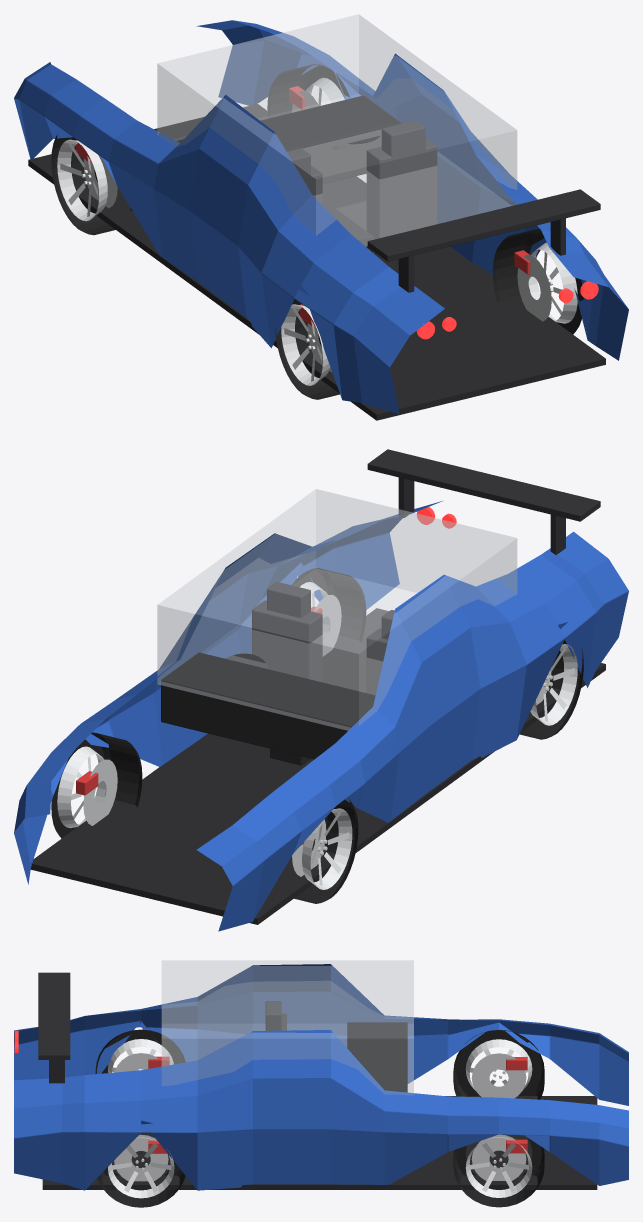
Rendered from Car_Nissan_Skyline_GTR_R34_2000s_Complete.glb.
3 views of the same model, one above another, from view 1: azimuth 30°, elevation 25°; view 2: azimuth 150°, elevation 25°; view 3: azimuth 270°, elevation 25° (orthographic). The views are drawn at different scales.
Visible parts, largest first — view 1: BODY_SkylineGTR_R34_MainShell, GLASS_SkylineGTR_R34, CHASSIS_BellyPan, INTERIOR_BucketSeats, INTERIOR_Dashboard, AERO_SkylineGTR_Wing, WHEEL_FR_Rim, WHEEL_RL_Tire, WHEEL_RR_Rim, WHEEL_FL_Tire, WHEEL_FR_Tire, WHEEL_RL_Rim (+4 smaller); view 2: BODY_SkylineGTR_R34_MainShell, GLASS_SkylineGTR_R34, CHASSIS_BellyPan, INTERIOR_Dashboard, AERO_SkylineGTR_Wing, INTERIOR_BucketSeats, WHEEL_FL_Tire, WHEEL_RL_Tire, WHEEL_FR_Rim, WHEEL_FL_Rim, WHEEL_RR_Rim, WHEEL_FR_Tire (+3 smaller); view 3: BODY_SkylineGTR_R34_MainShell, GLASS_SkylineGTR_R34, CHASSIS_BellyPan, INTERIOR_Dashboard, AERO_SkylineGTR_Wing, WHEEL_FR_Tire, WHEEL_FL_Tire, BRAKE_FR_Rotor, WHEEL_FL_Rim, WHEEL_RL_Rim, BRAKE_FL_Rotor, BRAKE_RL_Rotor (+6 smaller).
Part boxes in pixels (x1,y1,x2,y2): BODY_SkylineGTR_R34_MainShell: [14, 20, 628, 414]; GLASS_SkylineGTR_R34: [157, 14, 517, 246]; CHASSIS_BellyPan: [28, 104, 605, 420]; INTERIOR_BucketSeats: [287, 120, 437, 253]; INTERIOR_Dashboard: [177, 95, 401, 252]; AERO_SkylineGTR_Wing: [367, 189, 600, 292]; WHEEL_FR_Rim: [57, 139, 107, 221]; WHEEL_RL_Tire: [492, 228, 583, 334]; WHEEL_RR_Rim: [281, 304, 330, 385]; WHEEL_FL_Tire: [267, 64, 350, 118]; WHEEL_FR_Tire: [51, 134, 132, 235]; WHEEL_RL_Rim: [528, 242, 577, 323]; BODY_SkylineGTR_R34_MainShell: [14, 500, 628, 931]; GLASS_SkylineGTR_R34: [157, 489, 517, 730]; CHASSIS_BellyPan: [30, 608, 605, 924]; INTERIOR_Dashboard: [161, 652, 375, 765]; AERO_SkylineGTR_Wing: [367, 449, 600, 554]; INTERIOR_BucketSeats: [252, 582, 394, 694]; WHEEL_FL_Tire: [51, 732, 142, 838]; WHEEL_RL_Tire: [292, 568, 366, 642]; WHEEL_FR_Rim: [302, 808, 352, 889]; WHEEL_FL_Rim: [57, 746, 106, 828]; WHEEL_RR_Rim: [530, 644, 577, 725]; WHEEL_FR_Tire: [278, 798, 358, 903]; BODY_SkylineGTR_R34_MainShell: [14, 964, 628, 1190]; GLASS_SkylineGTR_R34: [161, 960, 413, 1095]; CHASSIS_BellyPan: [42, 1096, 597, 1189]; INTERIOR_Dashboard: [347, 1022, 407, 1092]; AERO_SkylineGTR_Wing: [38, 972, 70, 1083]; WHEEL_FR_Tire: [453, 1030, 544, 1099]; WHEEL_FL_Tire: [453, 1137, 544, 1207]; BRAKE_FR_Rotor: [471, 1053, 526, 1098]; WHEEL_FL_Rim: [465, 1137, 532, 1197]; WHEEL_RL_Rim: [108, 1137, 174, 1198]; BRAKE_FL_Rotor: [471, 1134, 526, 1180]; BRAKE_RL_Rotor: [114, 1134, 168, 1181].
Size of the model in its own units: 1.86 by 1.34 by 4.58.
